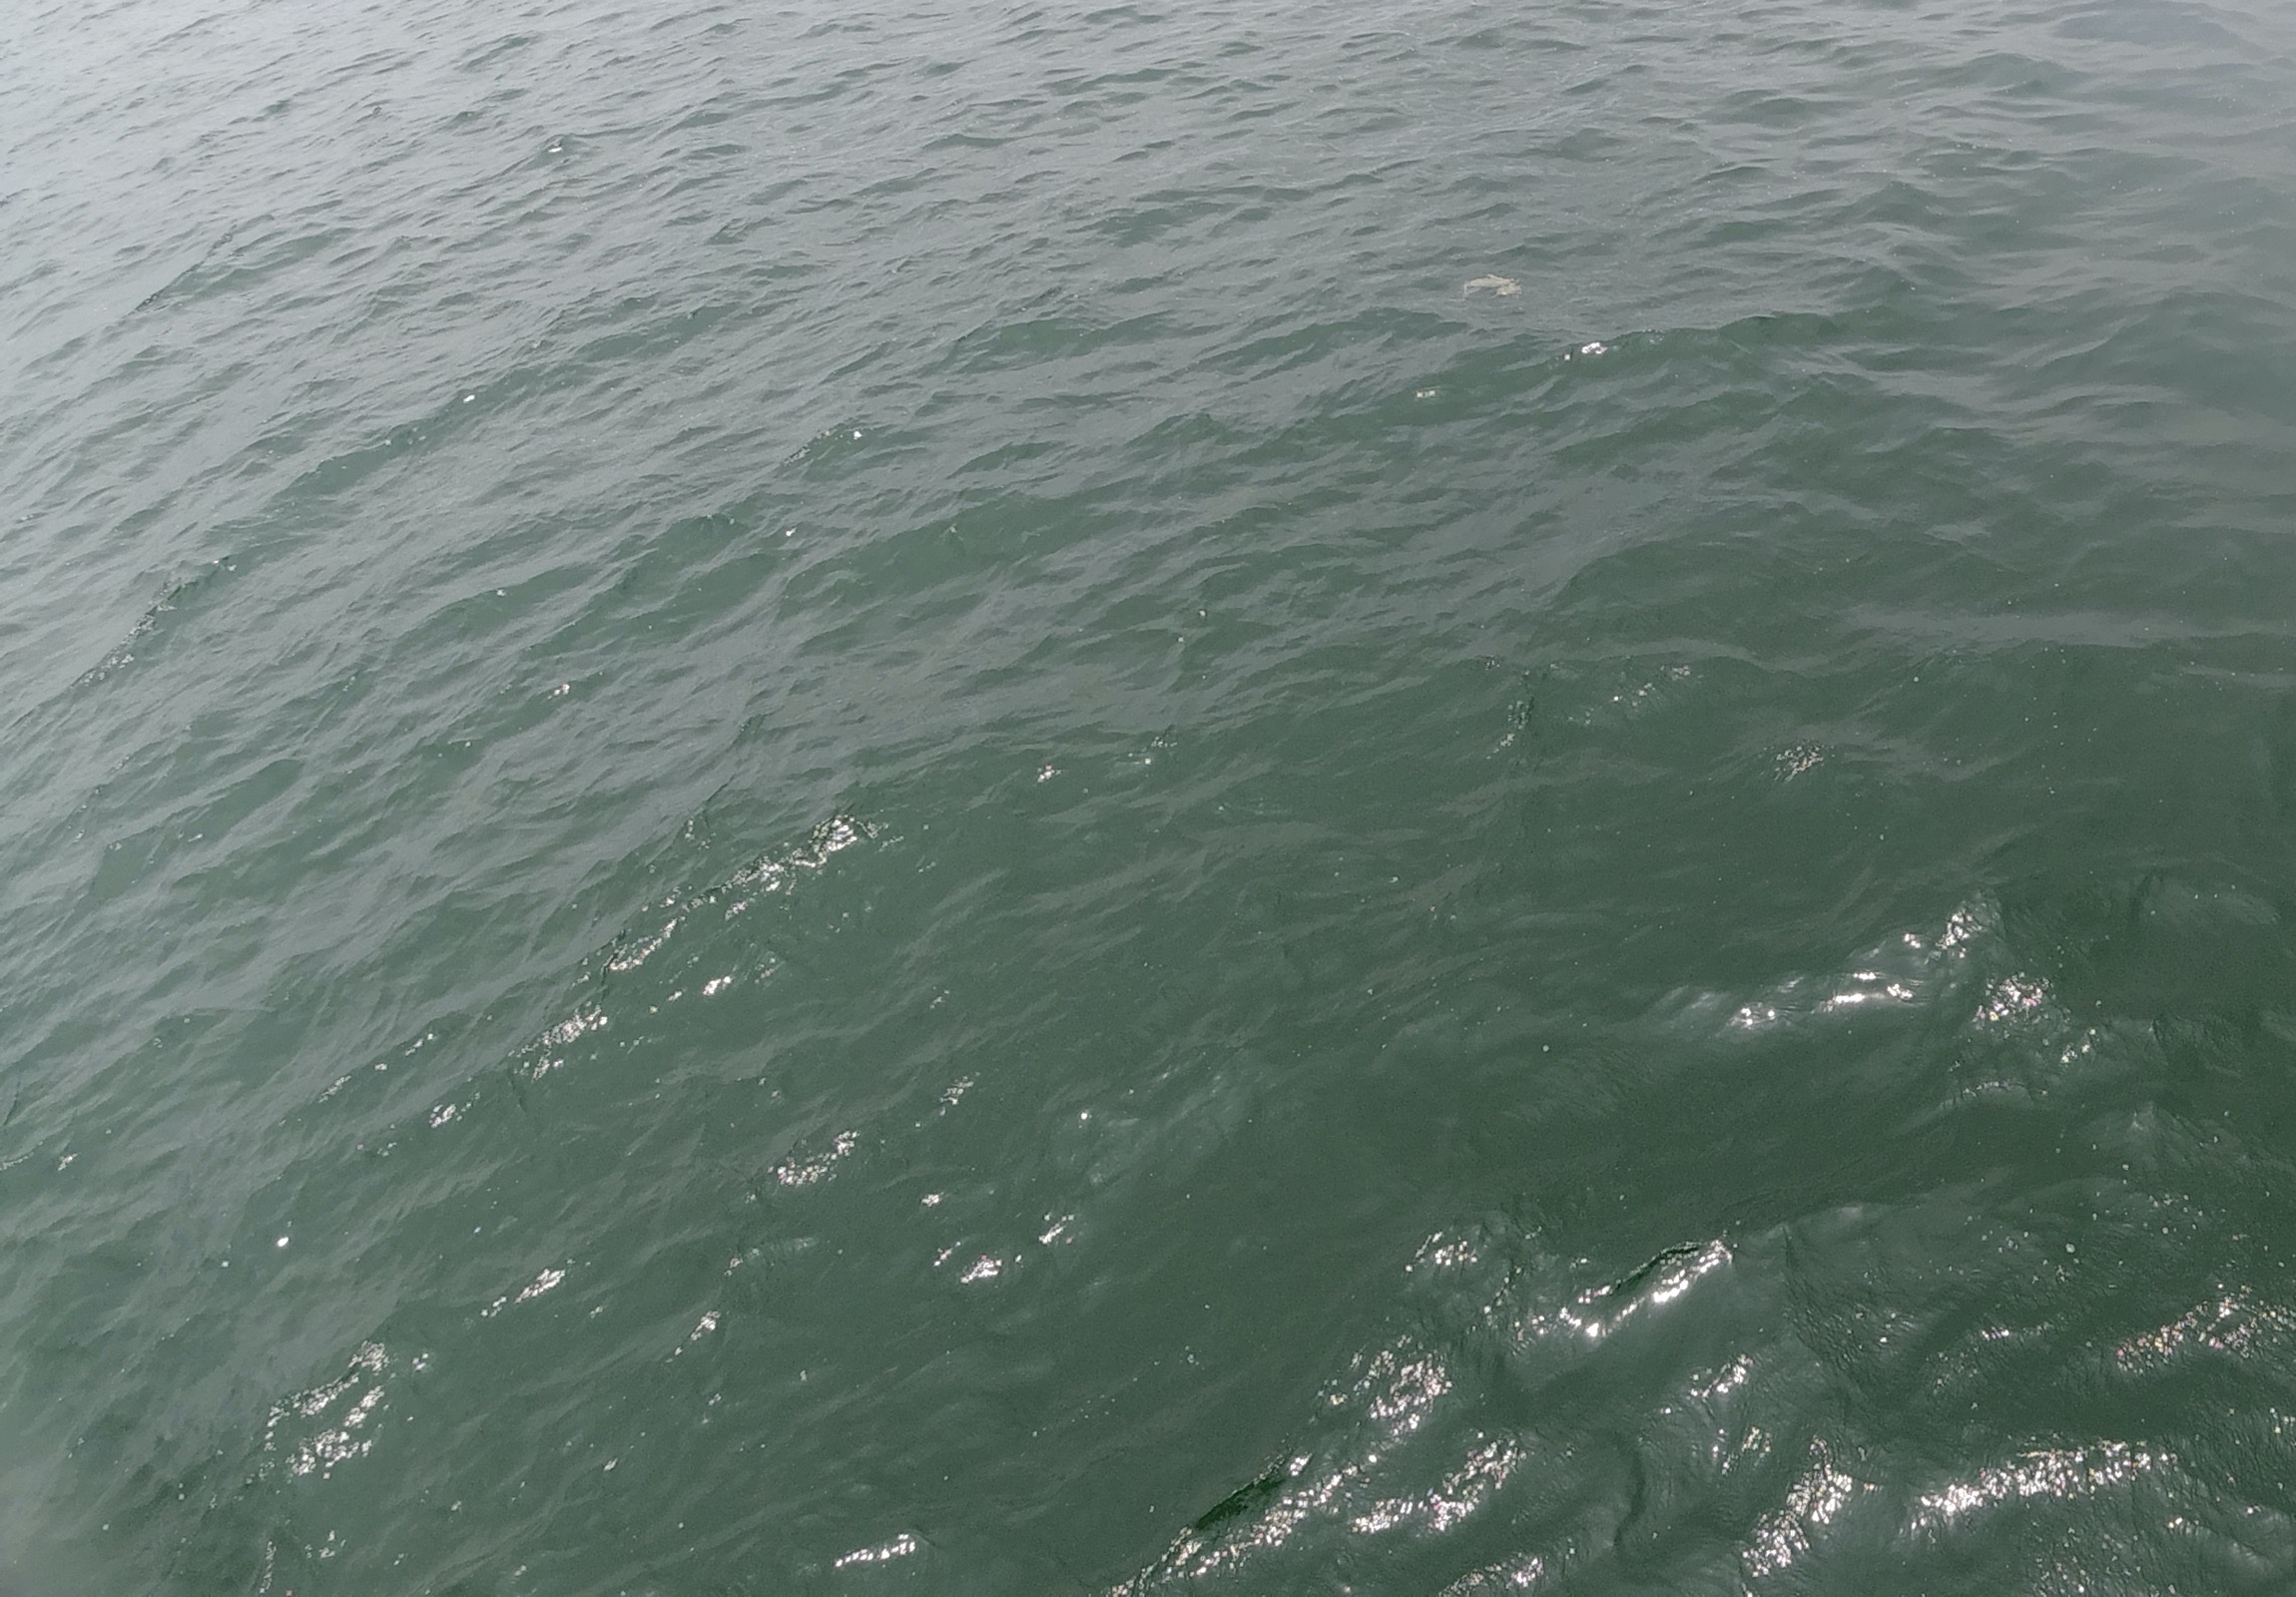plastic: (1446, 262, 1534, 314)
